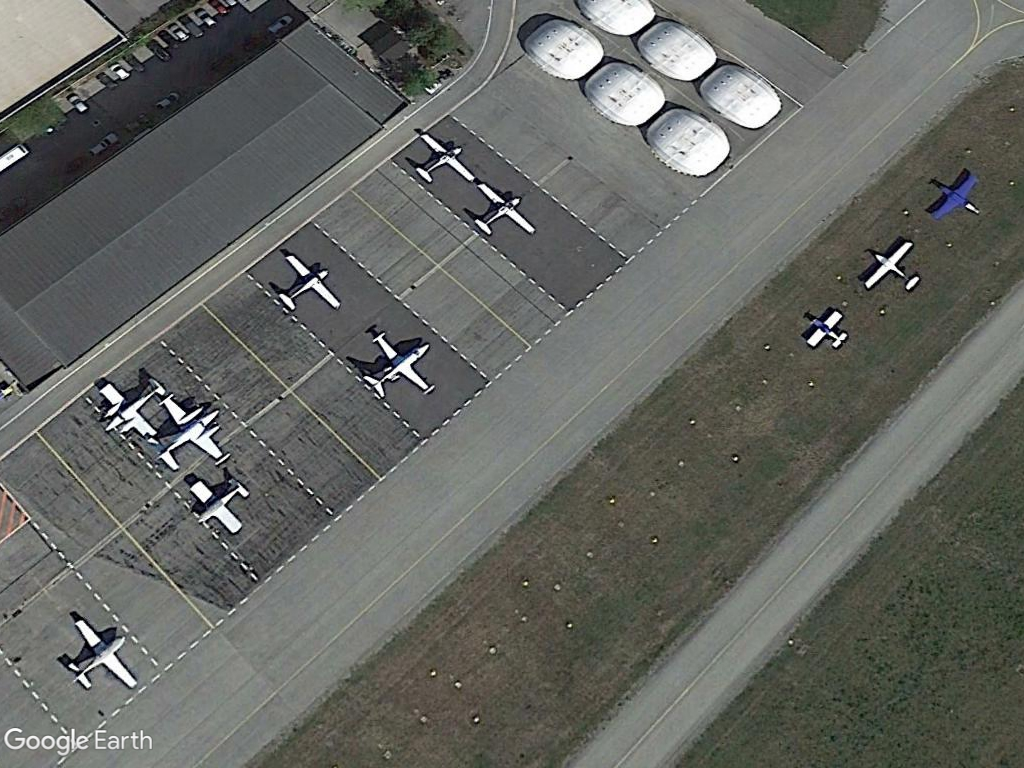trainer: (51, 616, 141, 692), (357, 329, 439, 401), (179, 468, 256, 539), (263, 251, 343, 317), (465, 178, 541, 243), (409, 128, 477, 186), (862, 235, 921, 296), (798, 302, 848, 353)
